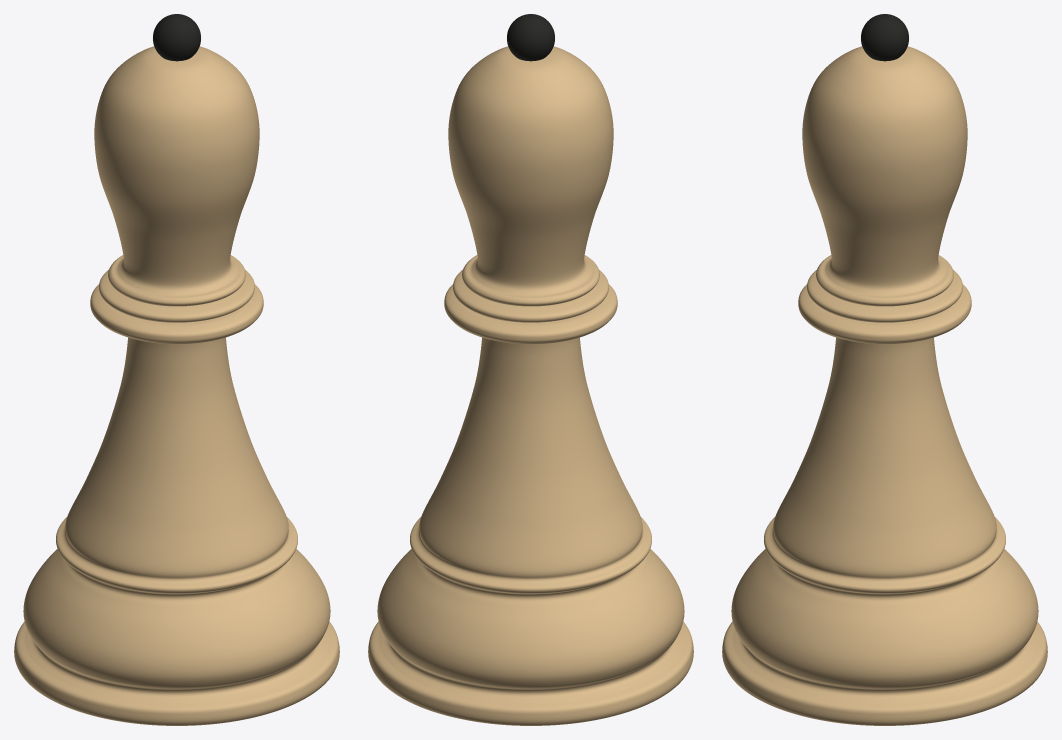
Rendered from bishop.glb.
3 views of the same model, side by side, from view 1: azimuth 30°, elevation 25°; view 2: azimuth 150°, elevation 25°; view 3: azimuth 270°, elevation 25° (orthographic).
Parts seen in each view (by area): view 1: Bishop.002; view 2: Bishop.002; view 3: Bishop.002.
Part boxes in pixels (bbox=[...]): Bishop.002: bbox=[14, 14, 339, 725]; Bishop.002: bbox=[368, 14, 693, 725]; Bishop.002: bbox=[722, 14, 1047, 725].
Bounding box in the file's own units: 0.0357 × 0.0788 × 0.0357.
